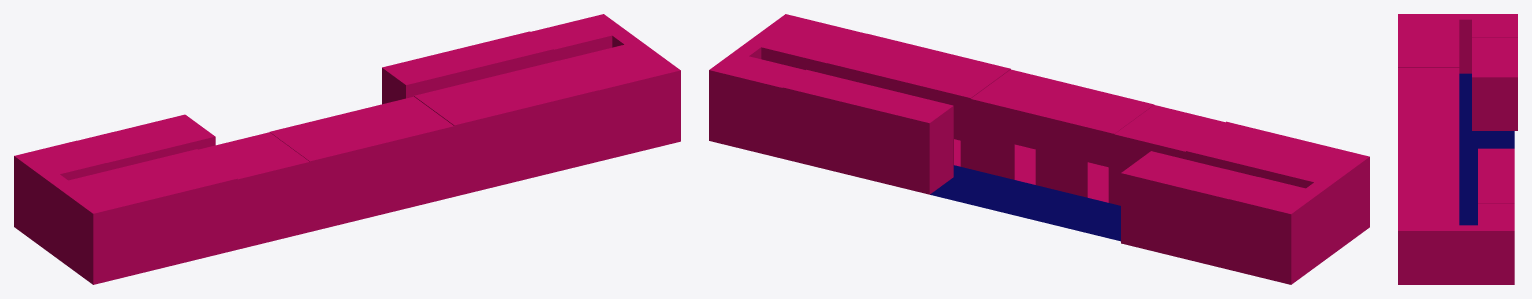
The model's file is k4mor.fbx.
3 renders of one model, left to right at view 1: azimuth 30°, elevation 25°; view 2: azimuth 150°, elevation 25°; view 3: azimuth 270°, elevation 25°, orthographic. The views are drawn at different scales.
Visible parts, largest first — view 1: Model; view 2: Model; view 3: Model.
Part boxes in pixels (bbox=[...]): Model: bbox=[14, 14, 680, 284]; Model: bbox=[709, 14, 1369, 284]; Model: bbox=[1398, 14, 1517, 284].
Bounding box in the file's own units: 364 × 42.5 × 84.86.
